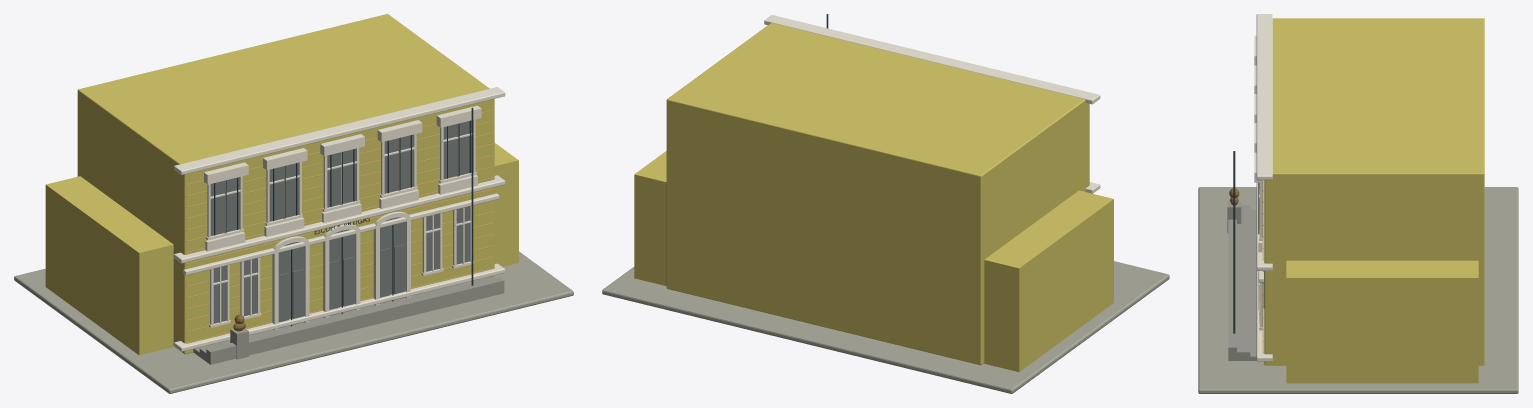
File: gms-37.glb
3 renders of one model, left to right at view 1: azimuth 30°, elevation 25°; view 2: azimuth 150°, elevation 25°; view 3: azimuth 270°, elevation 25°, orthographic. The views are drawn at different scales.
Visible parts, largest first — view 1: Two-storey main school block, Shallow white entrance arch, Three grey segmental entrance doors, Context plinth, Entry step, Rusticated horizontal joint, Door central join; view 2: Two-storey main school block, Context plinth, Shallow white entrance arch; view 3: Two-storey main school block, Context plinth, Shallow white entrance arch, Entry step, Door central join, Rusticated horizontal joint.
Boxes of the visible parts, x1,y1,x2,y2 form: Two-storey main school block: (45,14,518,355); Shallow white entrance arch: (174,87,505,351); Three grey segmental entrance doors: (210,120,471,328); Context plinth: (14,251,573,393); Entry step: (193,277,504,364); Rusticated horizontal joint: (186,109,494,343); Door central join: (214,107,473,326); Two-storey main school block: (634,23,1113,371); Context plinth: (602,261,1169,393); Shallow white entrance arch: (764,15,1100,193); Two-storey main school block: (1264,18,1484,383); Context plinth: (1198,187,1518,393); Shallow white entrance arch: (1254,14,1272,361); Entry step: (1227,200,1256,360); Door central join: (1233,151,1259,333); Rusticated horizontal joint: (1262,180,1263,353).
Size of the model in its own units: 12 by 5.54 by 8.
